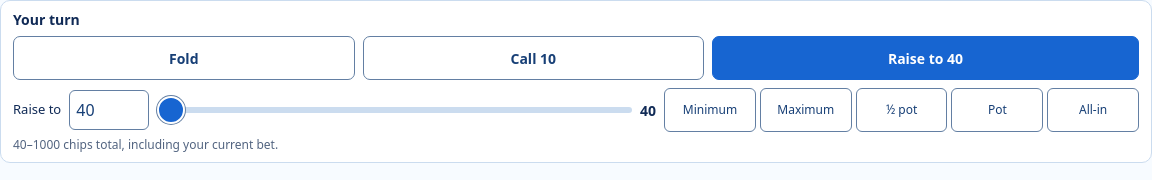
Test: PokerActionPanel › rejects invalid amount 39 with inline feedback
Replace the text in the number field labelled "Raise to" with "39" at (109, 110), box x1=69 y1=90 x2=149 y2=130
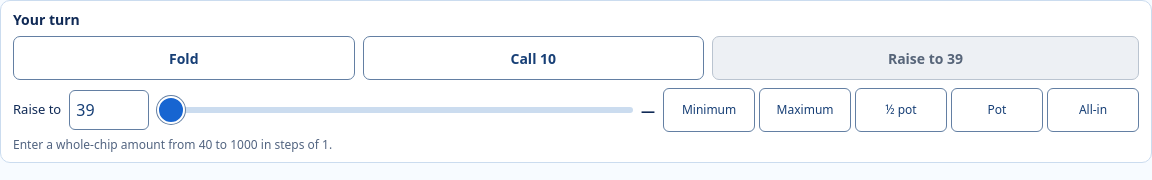
Now the button "Raise to 39" is disabled, box x1=712 y1=36 x2=1139 y2=80
Now the text "Enter a whole-chip amount from 40 to 1000 in steps of 1." is shown, box x1=13 y1=136 x2=332 y2=153
